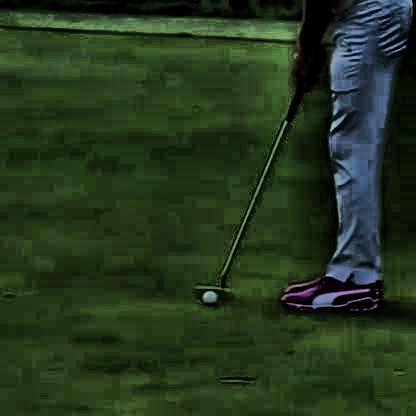golfball: (198, 287, 216, 303)
